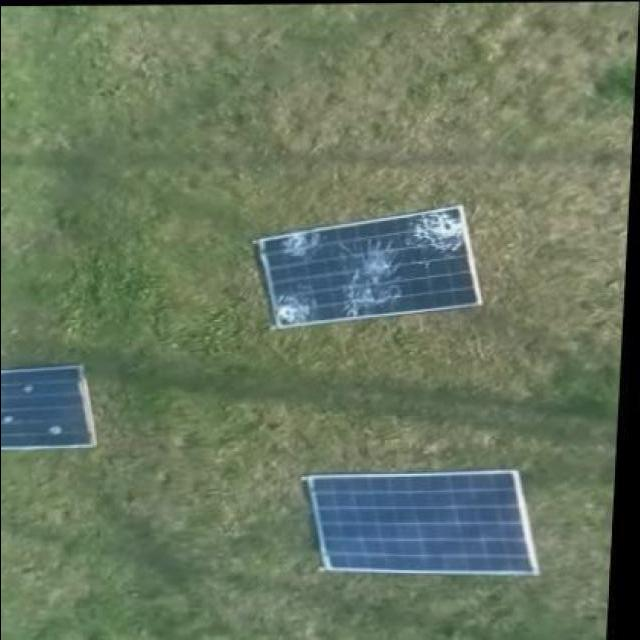cracked: (253, 204, 483, 329)
soiled: (0, 366, 104, 456)
